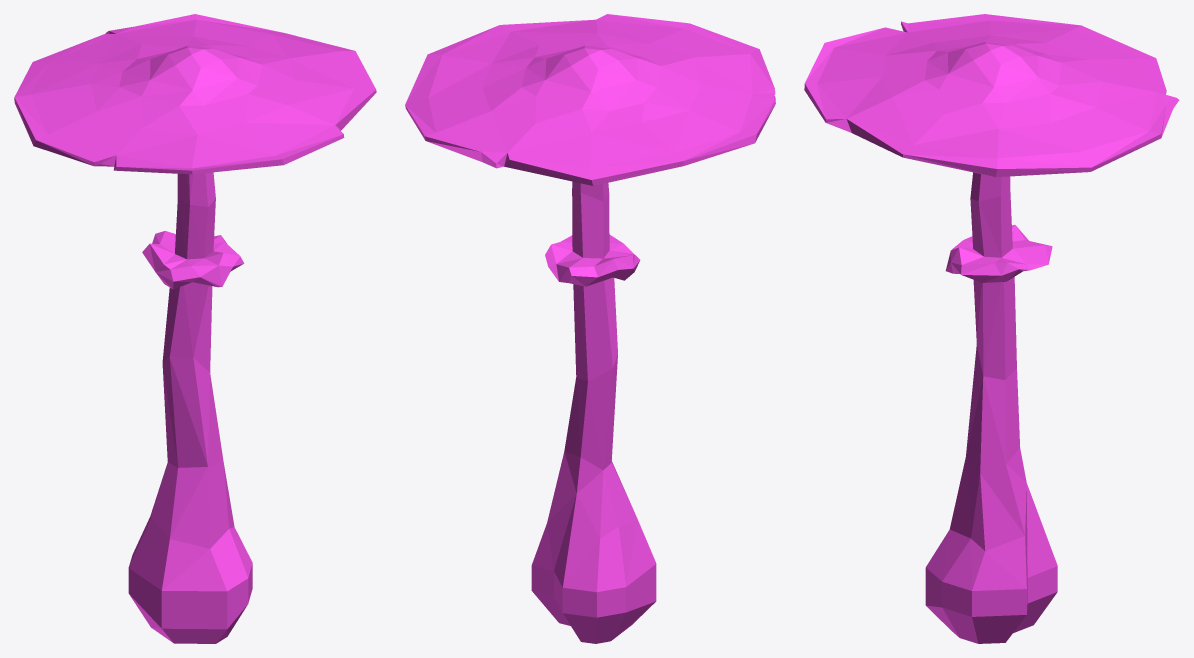
The model's file is SM_Mushroom_Slim_Big_I_Fantasy.fbx.
3 renders of one model, left to right at view 1: azimuth 30°, elevation 25°; view 2: azimuth 150°, elevation 25°; view 3: azimuth 270°, elevation 25°, orthographic.
Parts seen in each view (by area): view 1: SM_Mushroom_Slim_Big_I_Fantasy; view 2: SM_Mushroom_Slim_Big_I_Fantasy; view 3: SM_Mushroom_Slim_Big_I_Fantasy.
Boxes of the visible parts, x1,y1,x2,y2 form: SM_Mushroom_Slim_Big_I_Fantasy: (14,14,376,643); SM_Mushroom_Slim_Big_I_Fantasy: (405,14,775,643); SM_Mushroom_Slim_Big_I_Fantasy: (804,14,1179,643).
Size of the model in its own units: 3.04 by 5.15 by 3.
